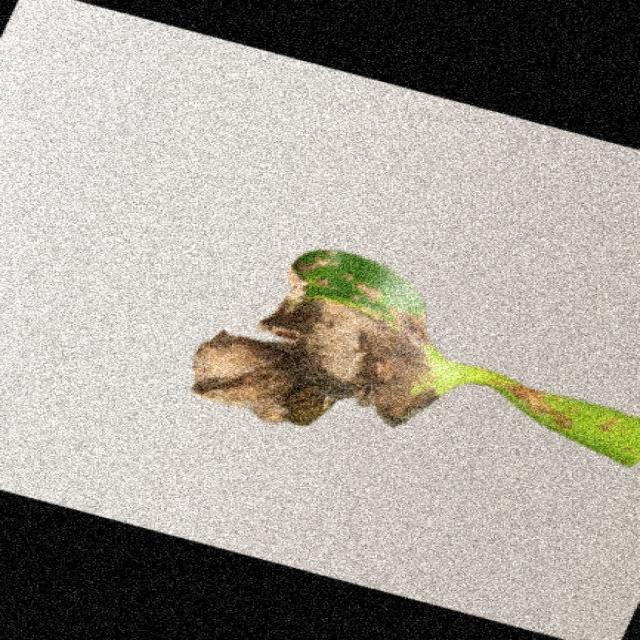daun berpenyakit karat: (194, 250, 640, 466)
